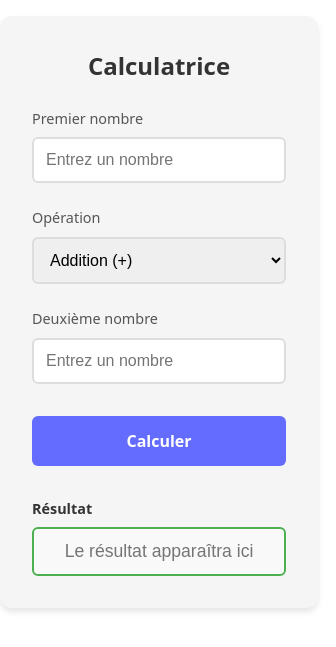
Scenario: Calculator › should display error message for division by zero
This screenshot has width=336, height=647.
Step 1. Type "10" into the number field labelled "Premier nombre" → (159, 160), box top-left (32, 137), bottom-right (286, 183)
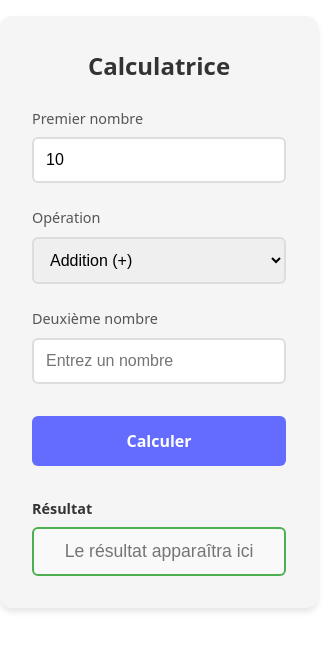
Step 2. Type "0" into the number field labelled "Deuxième nombre" → (159, 361), box top-left (32, 338), bottom-right (286, 384)
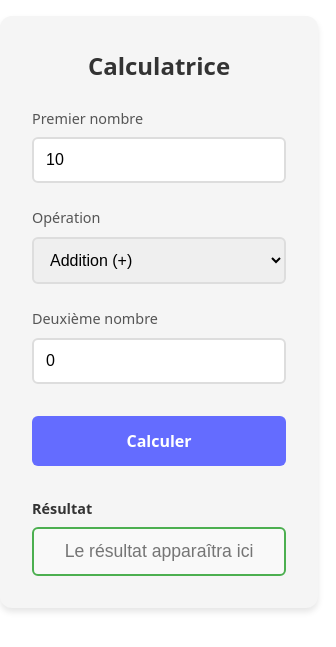
Step 3. Select "Division (÷)" in the dropdown labelled "Opération" → (159, 260), box top-left (32, 237), bottom-right (286, 284)
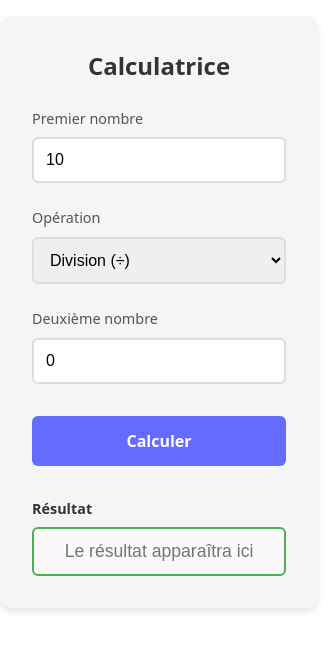
Step 4. Click the button "Calculer" → (159, 441), box top-left (32, 416), bottom-right (286, 466)
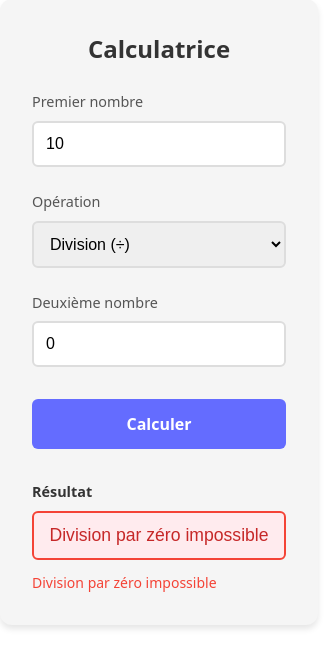
Expected: the text "Division par zéro impossible" is shown, top-left (32, 573), bottom-right (216, 592)
